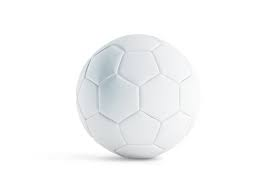football ball: (74, 33, 203, 161)
